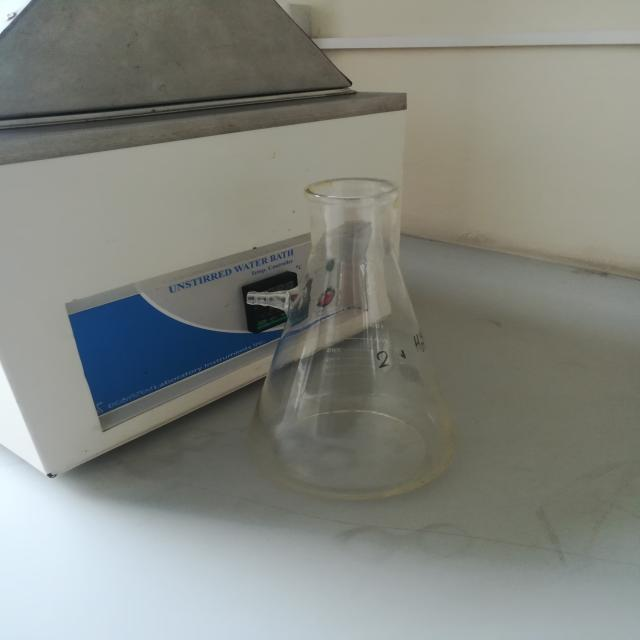Conical_Flask: (218, 92, 500, 545)
